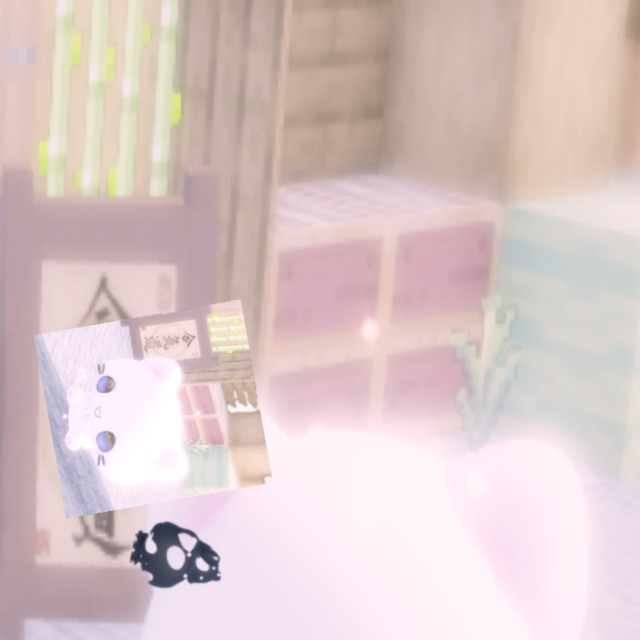urso_branco: (34, 299, 273, 519)
urso_preto: (124, 513, 237, 607)
